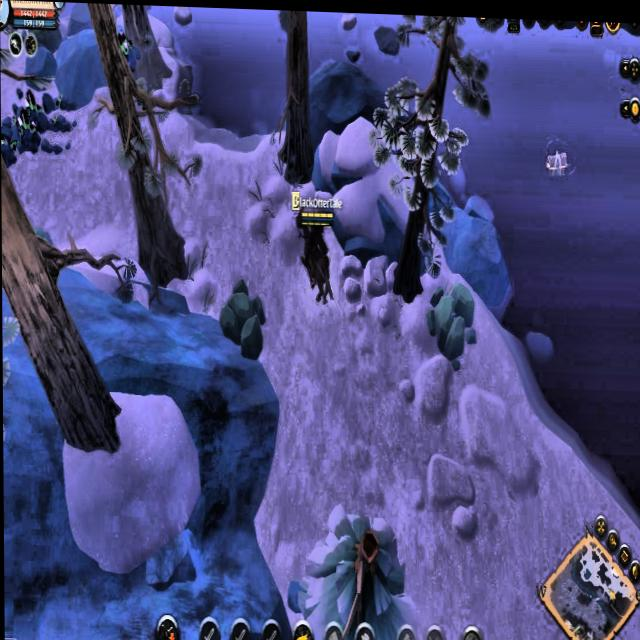sandstone: (426, 276, 475, 368), (218, 276, 267, 361)
tinore: (13, 109, 42, 153), (115, 25, 140, 74)
